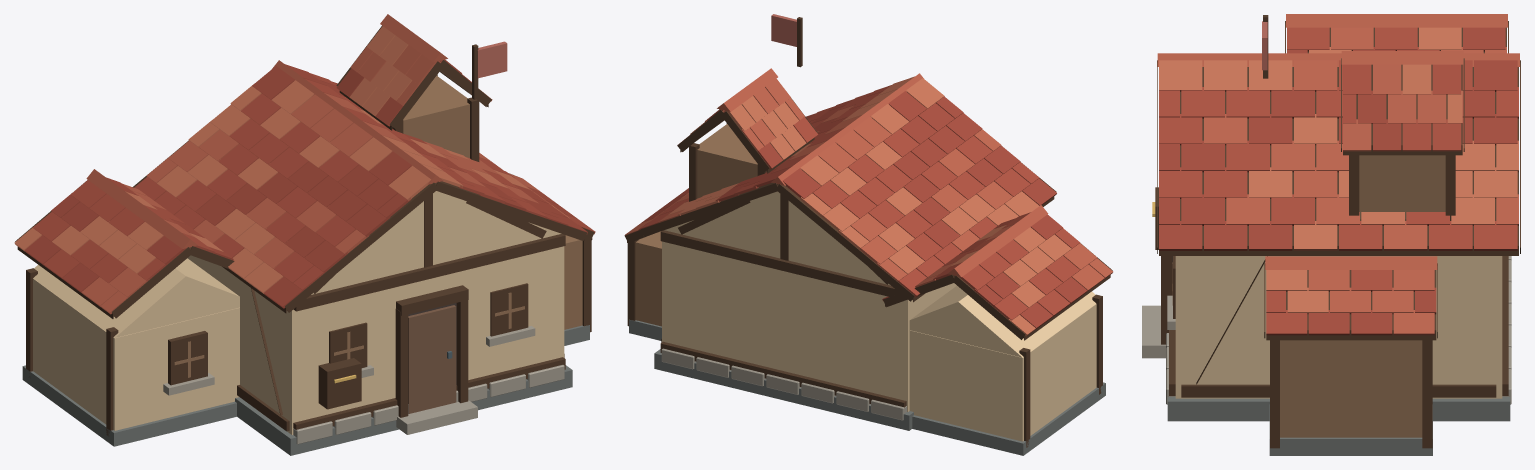
File: ENV_Civic_post_LOD0.glb
3 renders of one model, left to right at view 1: azimuth 30°, elevation 25°; view 2: azimuth 150°, elevation 25°; view 3: azimuth 270°, elevation 25°, orthographic. The views are drawn at different scales.
Visible parts, largest first — view 1: ENV_Civic_post_LOD0_roof_roofTiles, ENV_Civic_post_LOD0_shell_plaster, ENV_Civic_post_LOD0_stage6_wing_plaster, ENV_Civic_post_LOD0_shell_woodDark, ENV_Civic_post_LOD0_stage6_wing_roofTiles, ENV_Civic_post_LOD0_post_identity_roofTiles, ENV_Civic_post_LOD0_stage6_wing_woodDark, ENV_Civic_post_LOD0_shell_wood, ENV_Civic_post_LOD0_post_identity_woodDark, ENV_Civic_post_LOD0_roof_woodDark, ENV_Civic_post_LOD0_foundation_stoneDark, ENV_Civic_post_LOD0_post_identity_woodLight (+6 smaller); view 2: ENV_Civic_post_LOD0_roof_roofTiles, ENV_Civic_post_LOD0_shell_plaster, ENV_Civic_post_LOD0_stage6_wing_plaster, ENV_Civic_post_LOD0_stage6_wing_roofTiles, ENV_Civic_post_LOD0_shell_woodDark, ENV_Civic_post_LOD0_post_identity_roofTiles, ENV_Civic_post_LOD0_foundation_stone, ENV_Civic_post_LOD0_stage6_wing_woodDark, ENV_Civic_post_LOD0_post_identity_woodLight, ENV_Civic_post_LOD0_roof_woodDark, ENV_Civic_post_LOD0_stage6_wing_stoneDark, ENV_Civic_post_LOD0_foundation_stoneDark (+5 smaller); view 3: ENV_Civic_post_LOD0_roof_roofTiles, ENV_Civic_post_LOD0_shell_plaster, ENV_Civic_post_LOD0_stage5_shed_woodLight, ENV_Civic_post_LOD0_stage5_shed_roofTiles, ENV_Civic_post_LOD0_post_identity_roofTiles, ENV_Civic_post_LOD0_stage6_wing_roofTiles, ENV_Civic_post_LOD0_post_identity_woodLight, ENV_Civic_post_LOD0_shell_woodDark, ENV_Civic_post_LOD0_foundation_stoneDark, ENV_Civic_post_LOD0_stage5_shed_woodDark, ENV_Civic_post_LOD0_roof_woodDark, ENV_Civic_post_LOD0_post_identity_woodDark (+3 smaller).
Boxes of the visible parts, left/top/right/bottom form: ENV_Civic_post_LOD0_roof_roofTiles: left=134, top=60, right=587, bottom=308; ENV_Civic_post_LOD0_shell_plaster: left=187, top=191, right=564, bottom=434; ENV_Civic_post_LOD0_stage6_wing_plaster: left=33, top=258, right=239, bottom=430; ENV_Civic_post_LOD0_shell_woodDark: left=237, top=194, right=565, bottom=431; ENV_Civic_post_LOD0_stage6_wing_roofTiles: left=14, top=169, right=234, bottom=314; ENV_Civic_post_LOD0_post_identity_roofTiles: left=336, top=14, right=492, bottom=126; ENV_Civic_post_LOD0_stage6_wing_woodDark: left=15, top=180, right=234, bottom=436; ENV_Civic_post_LOD0_shell_wood: left=408, top=305, right=456, bottom=413; ENV_Civic_post_LOD0_post_identity_woodDark: left=318, top=25, right=491, bottom=409; ENV_Civic_post_LOD0_roof_woodDark: left=132, top=140, right=586, bottom=313; ENV_Civic_post_LOD0_foundation_stoneDark: left=235, top=365, right=572, bottom=455; ENV_Civic_post_LOD0_post_identity_woodLight: left=403, top=75, right=469, bottom=158; ENV_Civic_post_LOD0_roof_roofTiles: left=641, top=73, right=1056, bottom=297; ENV_Civic_post_LOD0_shell_plaster: left=662, top=191, right=956, bottom=411; ENV_Civic_post_LOD0_stage6_wing_plaster: left=909, top=286, right=1096, bottom=441; ENV_Civic_post_LOD0_stage6_wing_roofTiles: left=882, top=205, right=1113, bottom=336; ENV_Civic_post_LOD0_shell_woodDark: left=660, top=194, right=906, bottom=407; ENV_Civic_post_LOD0_post_identity_roofTiles: left=677, top=68, right=817, bottom=169; ENV_Civic_post_LOD0_foundation_stone: left=661, top=348, right=906, bottom=420; ENV_Civic_post_LOD0_stage6_wing_woodDark: left=883, top=243, right=1112, bottom=447; ENV_Civic_post_LOD0_post_identity_woodLight: left=697, top=124, right=757, bottom=198; ENV_Civic_post_LOD0_roof_woodDark: left=641, top=163, right=1056, bottom=302; ENV_Civic_post_LOD0_stage6_wing_stoneDark: left=912, top=382, right=1105, bottom=455; ENV_Civic_post_LOD0_foundation_stoneDark: left=654, top=349, right=913, bottom=430; ENV_Civic_post_LOD0_roof_roofTiles: left=1157, top=53, right=1519, bottom=250; ENV_Civic_post_LOD0_shell_plaster: left=1175, top=256, right=1502, bottom=398; ENV_Civic_post_LOD0_stage5_shed_woodLight: left=1280, top=340, right=1422, bottom=437; ENV_Civic_post_LOD0_stage5_shed_roofTiles: left=1265, top=256, right=1437, bottom=335; ENV_Civic_post_LOD0_post_identity_roofTiles: left=1341, top=51, right=1463, bottom=151; ENV_Civic_post_LOD0_stage6_wing_roofTiles: left=1286, top=14, right=1507, bottom=53; ENV_Civic_post_LOD0_post_identity_woodLight: left=1359, top=155, right=1445, bottom=218; ENV_Civic_post_LOD0_shell_woodDark: left=1161, top=256, right=1508, bottom=397; ENV_Civic_post_LOD0_foundation_stoneDark: left=1167, top=397, right=1510, bottom=421; ENV_Civic_post_LOD0_stage5_shed_woodDark: left=1264, top=263, right=1437, bottom=448; ENV_Civic_post_LOD0_roof_woodDark: left=1157, top=60, right=1520, bottom=255; ENV_Civic_post_LOD0_post_identity_woodDark: left=1155, top=15, right=1464, bottom=249.
Bounding box in the file's own units: 8.76 × 5.68 × 5.22.
